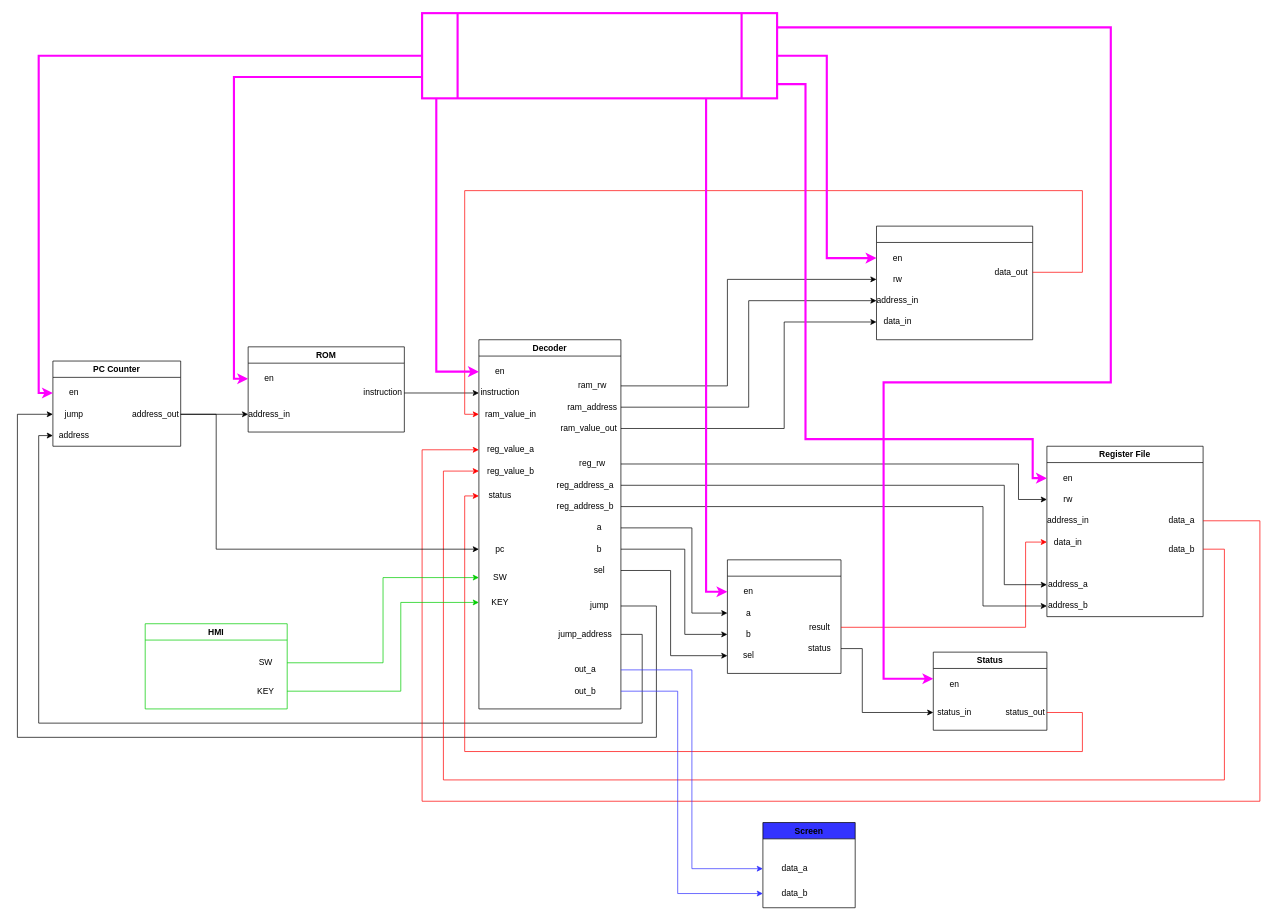
The diagram is 1278 pixels wide and 920 high, and some of its shapes have lost their labels. Each missing label, with the box of its shape:
ALU: (727, 559, 841, 673)
PIPELINE: (421, 12, 778, 99)
RAM: (876, 225, 1033, 340)
